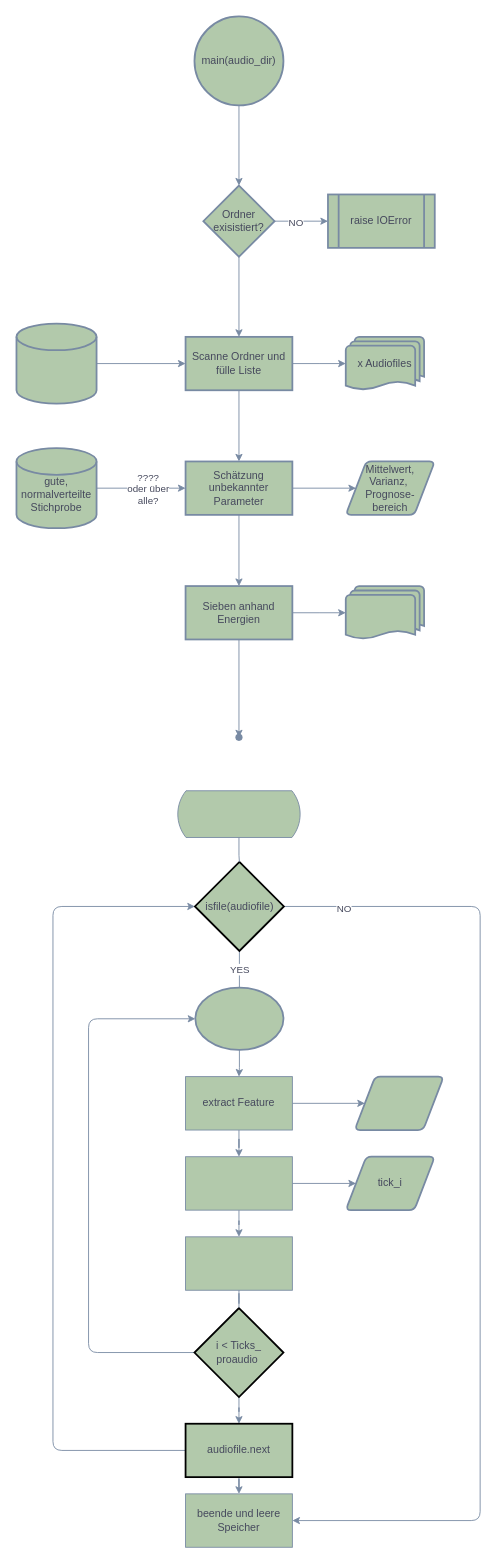
The diagram is 503 pixels wide and 1563 high, and some of its shapes have lost their labels. Each missing label, with the centre of its shape:
"68 Feature Energie, Entropie" belongs at point 398,1102.
"alle audio" belongs at point 56,363.
"for audiofile in audio_dir:" belongs at point 238,813.
"Fülle Originalsignal" belongs at point 238,1263.
"Schneide Tick heraus" belongs at point 238,1183.
"weniger Audiofiles" belongs at point 384,612.
"while" belongs at point 239,1018.
